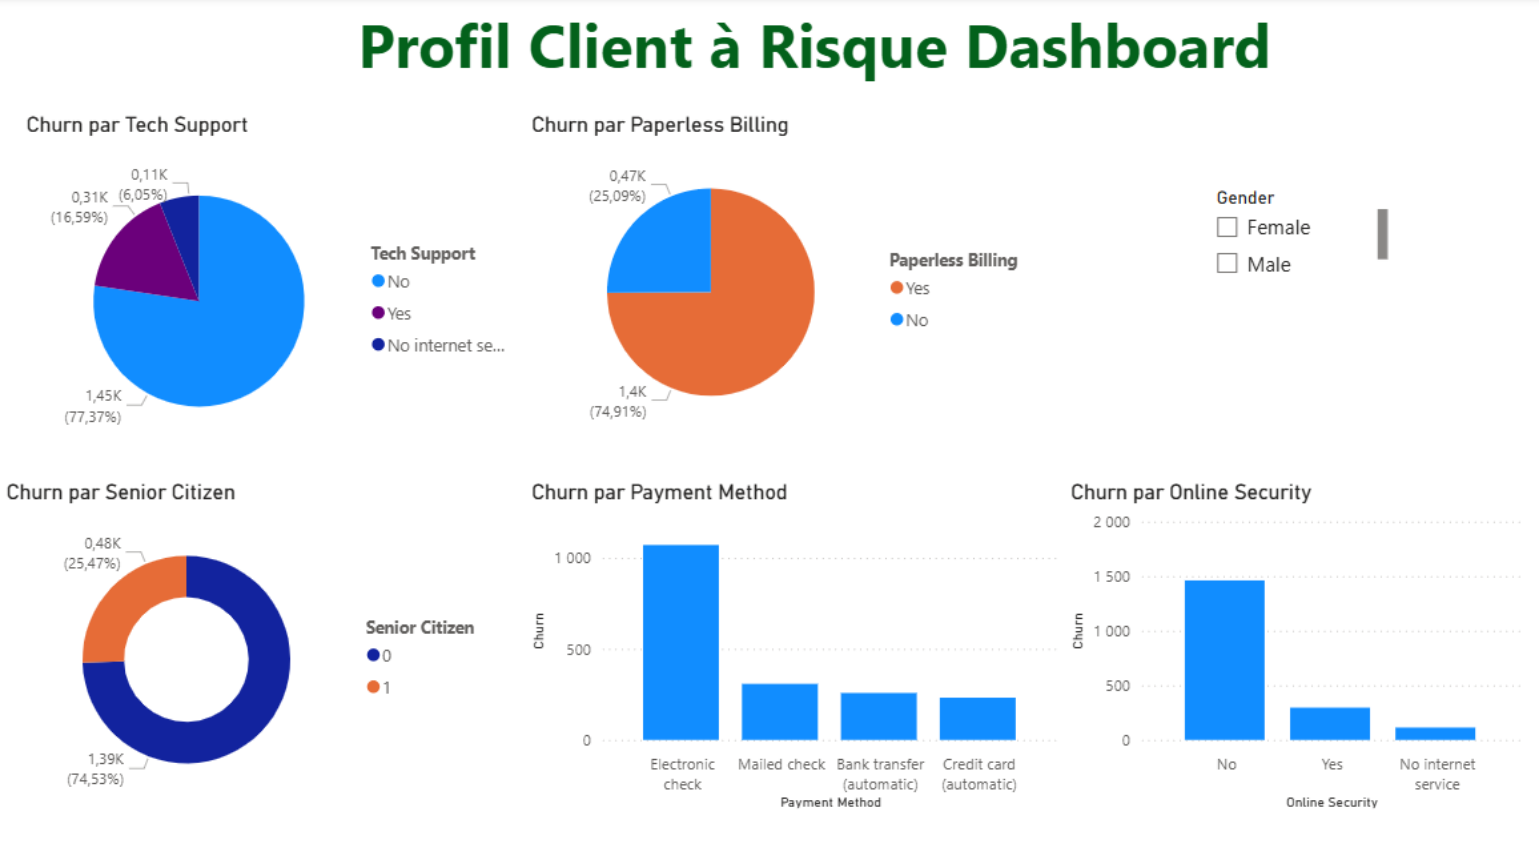

The page's visual inventory and layout, read from the dashboard file:
{"tool":"powerbi","page":{"name":"Page 2","canvas":[1280,720],"ordinal":1},"visuals":[{"type":"textbox","box":[279.7,0,767.2,92.6],"z":0},{"type":"pieChart","fields":{"Category":["Dim Services.Tech Support"],"Y":["Fact Churn.Churn"]},"box":[15.9,92.3,402.4,281.5],"z":1000},{"type":"pieChart","fields":{"Category":["Dim Contract.Paperless Billing"],"Y":["Fact Churn.Churn"]},"box":[418.3,92.3,412,267.2],"z":2000},{"type":"donutChart","fields":{"Category":["Dim Demographics.Senior Citizen"],"Y":["Fact Churn.Churn"]},"box":[0,384.9,399.2,267.2],"z":3000},{"type":"columnChart","fields":{"Category":["Dim Contract.Payment Method"],"Y":["Fact Churn.Churn"]},"box":[418.3,384.9,429.5,267.2],"z":4000},{"type":"columnChart","fields":{"Category":["Dim Services.Online Security"],"Y":["Fact Churn.Churn"]},"box":[847.8,384.9,369,267.2],"z":5000},{"type":"slicer","fields":{"Values":["Dim Demographics.Gender"]},"box":[956,146.3,154.3,87.5],"z":6000}]}

Visuals, with their boxes in screenshot pixels (x1, y1, x2, y2), scaled from the page's 1280x720 canvas onto the 1539x860 screenshot:
textbox: box=[336, 0, 1259, 111]
pieChart - Dim Services.Tech Support x Fact Churn.Churn: box=[19, 110, 503, 446]
pieChart - Dim Contract.Paperless Billing x Fact Churn.Churn: box=[503, 110, 998, 429]
donutChart - Dim Demographics.Senior Citizen x Fact Churn.Churn: box=[0, 460, 480, 779]
columnChart - Dim Contract.Payment Method x Fact Churn.Churn: box=[503, 460, 1019, 779]
columnChart - Dim Services.Online Security x Fact Churn.Churn: box=[1019, 460, 1463, 779]
slicer - Dim Demographics.Gender: box=[1149, 175, 1335, 279]
